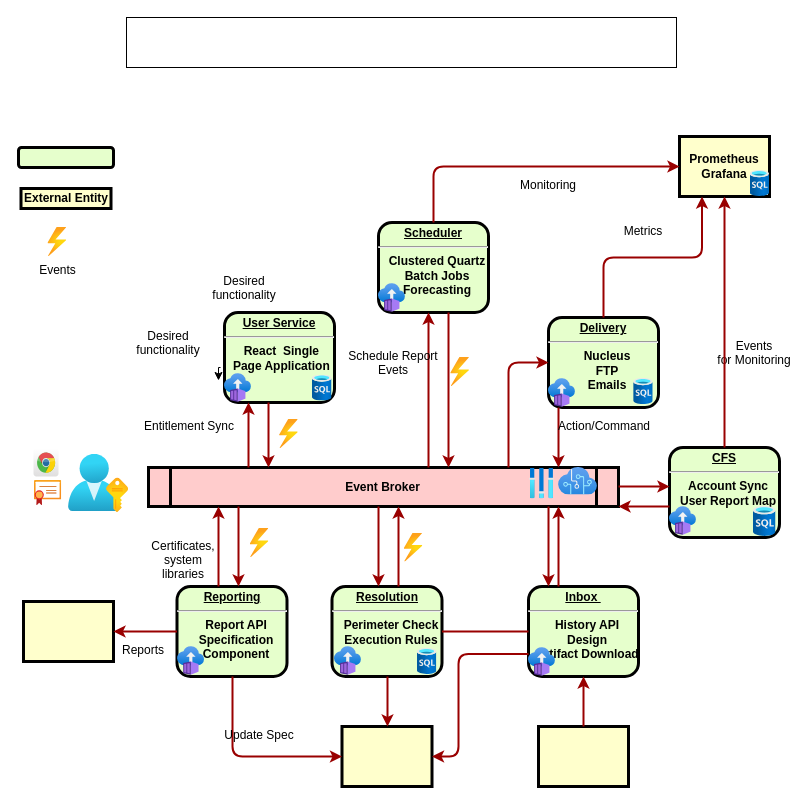
This 809x805 diagram has some shape labels left out. Here are the shapes that lost their labels. From the top down, the centre of each, then its label:
pixel 401 42: MY REPORTS - ARCHITECTURE WORK FLOW
pixel 65 157: Micro Services
pixel 68 631: Distribution
pixel 386 756: Onboarding
pixel 583 756: SLA Monitoring
